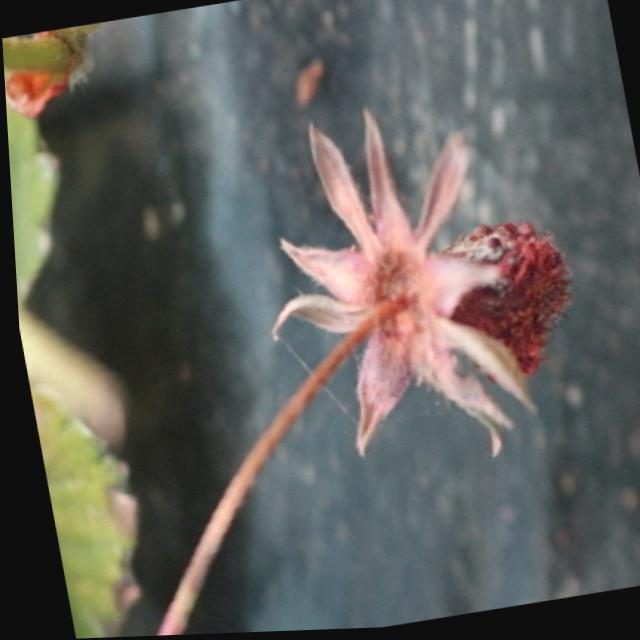Gray Mold: (263, 109, 573, 462)
